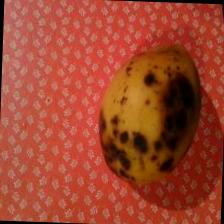Mango Overripe: (96, 36, 204, 187)
